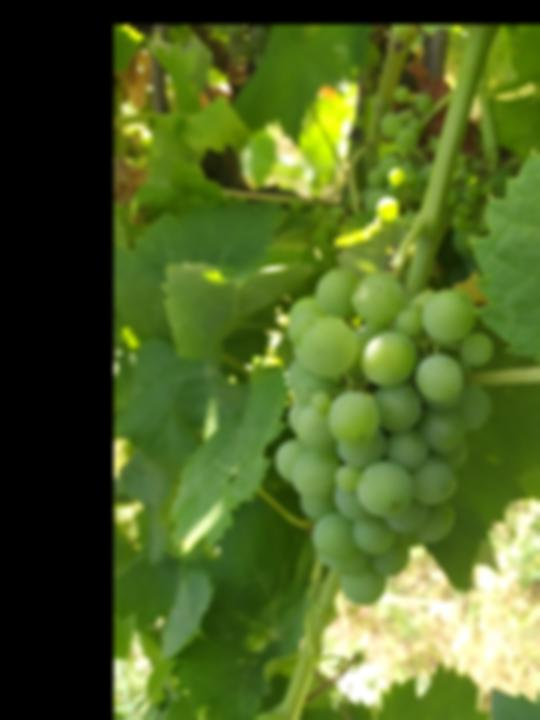grape: (273, 266, 495, 609)
